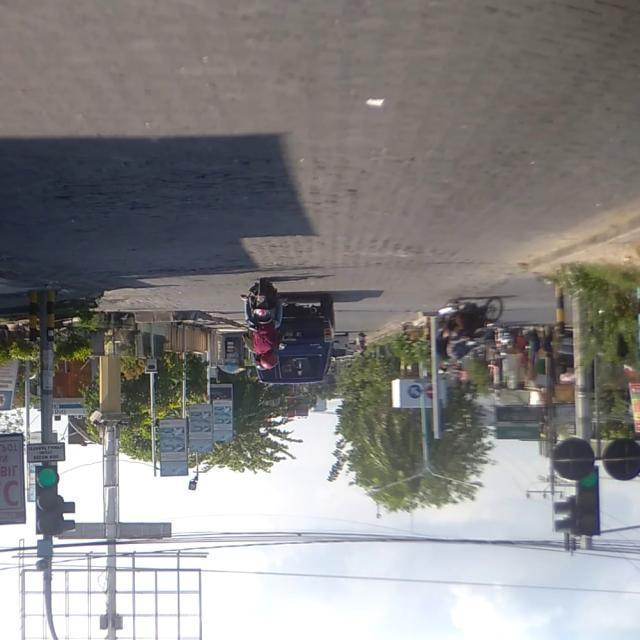green_light: (26, 448, 76, 550), (569, 456, 610, 546)
